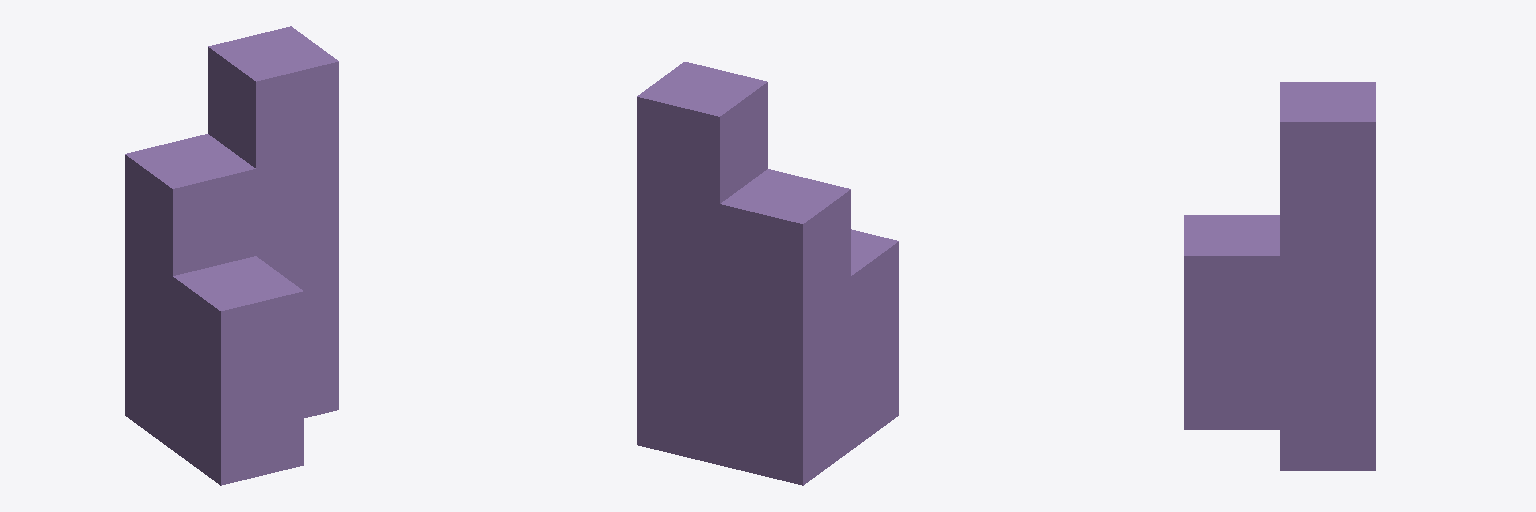
The picture shows the model from 3 angles: view 1: azimuth 30°, elevation 25°; view 2: azimuth 150°, elevation 25°; view 3: azimuth 270°, elevation 25°; orthographic projection.
Parts seen in each view (by area): view 1: Model; view 2: Model; view 3: Model.
Boxes of the visible parts, x1=… form: Model: x1=125, y1=26, x2=338, y2=485; Model: x1=637, y1=62, x2=898, y2=485; Model: x1=1184, y1=82, x2=1375, y2=470.
Bounding box in the file's own units: 4 × 8 × 4.
1 materials, 1 textured.